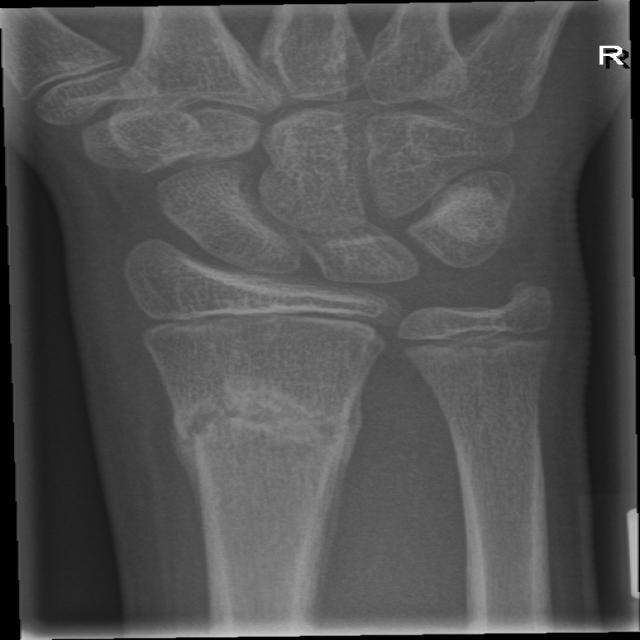radius fracture: (162, 346, 372, 575)
